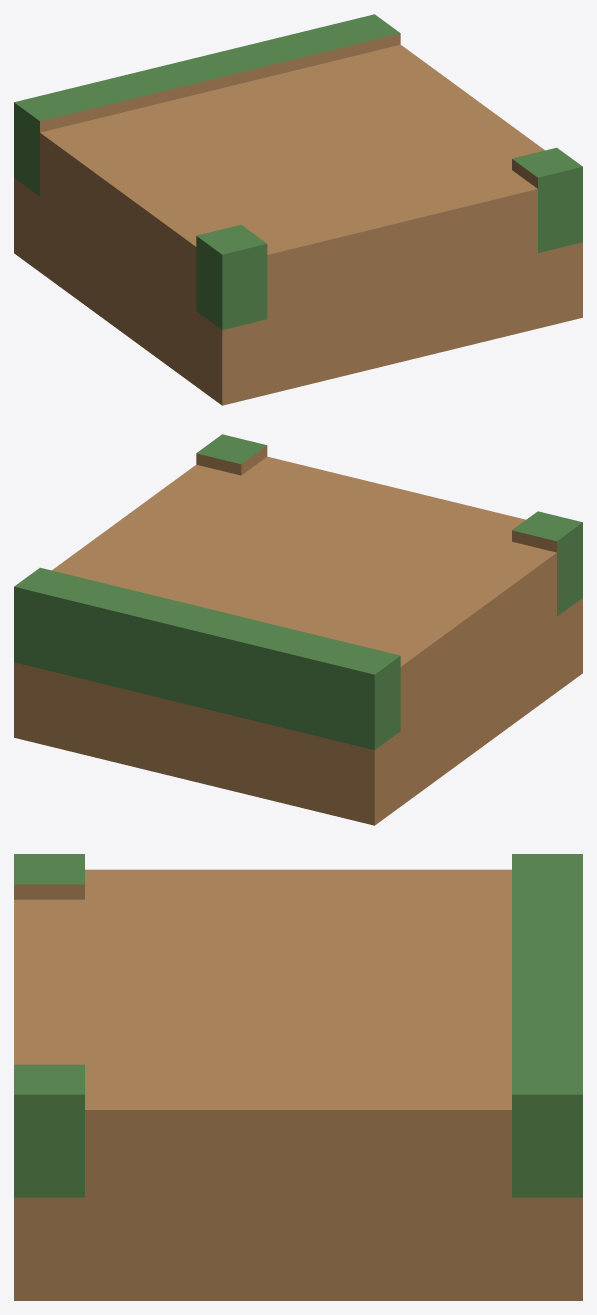
File: tile_099.dae
3 renders of one model, top to bottom at view 1: azimuth 30°, elevation 25°; view 2: azimuth 150°, elevation 25°; view 3: azimuth 270°, elevation 25°, orthographic. The views are drawn at different scales.
Parts seen in each view (by area): view 1: tile_099; view 2: tile_099; view 3: tile_099.
Part boxes in pixels (left/top/right/bottom): tile_099: left=14, top=14, right=582, bottom=405; tile_099: left=14, top=434, right=582, bottom=825; tile_099: left=14, top=854, right=582, bottom=1300.
Size of the model in its own units: 1 by 0.4 by 1.
